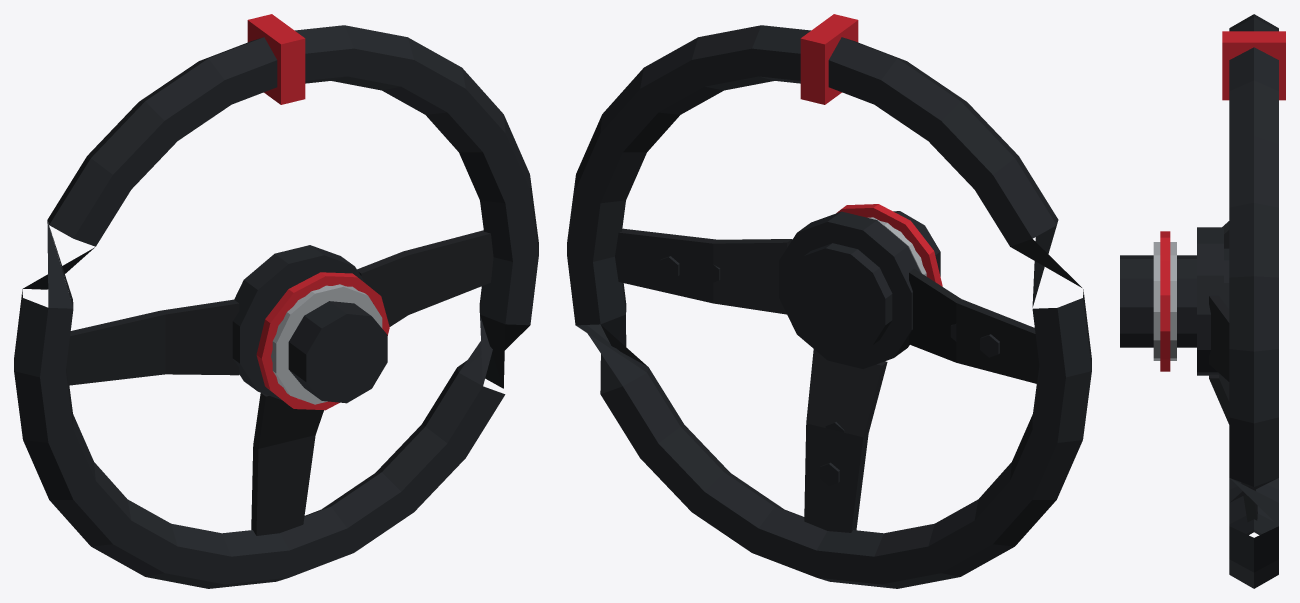
Rendered from kaze_gt.glb.
The picture shows the model from 3 angles, left to right: view 1: azimuth 30°, elevation 25°; view 2: azimuth 150°, elevation 25°; view 3: azimuth 270°, elevation 25°; orthographic projection. The views are drawn at different scales.
Visible parts, largest first — view 1: model; view 2: model; view 3: model.
Boxes of the visible parts, x1,y1,x2,y2 form: model: [14, 14, 538, 588]; model: [567, 14, 1091, 588]; model: [1120, 14, 1285, 588].
Size of the model in its own units: 0.3442 by 0.3462 by 0.099.
Materials: 3 (1 with a texture image).
